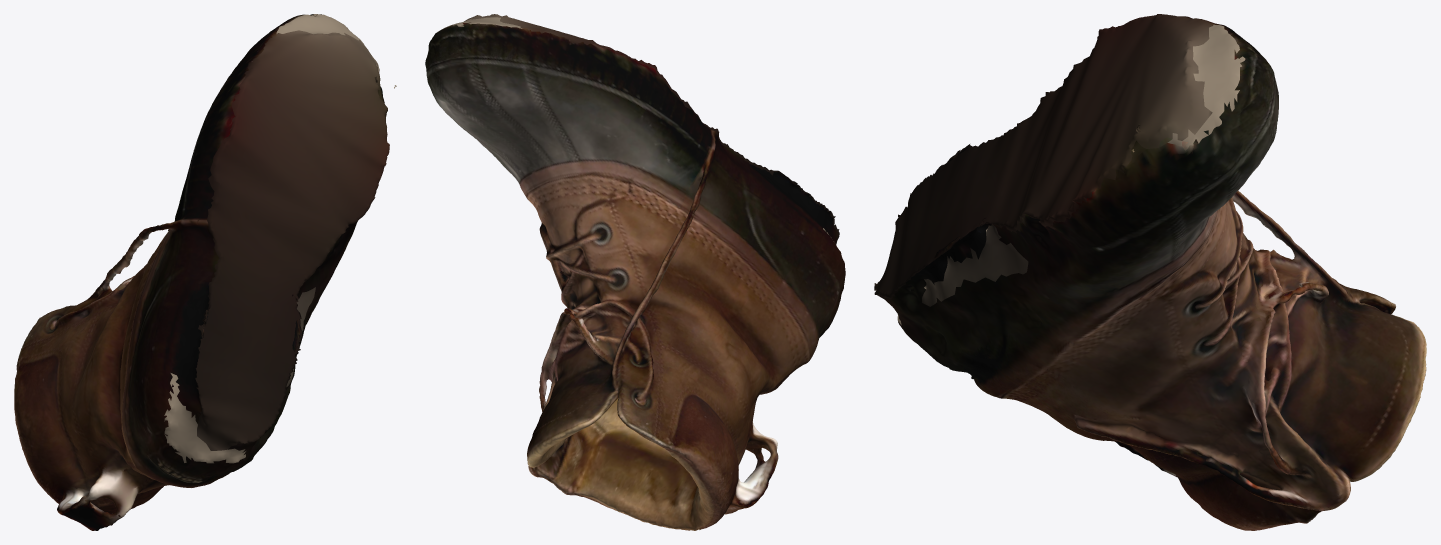
File: hunterboot.obj
3 renders of one model, left to right at view 1: azimuth 30°, elevation 25°; view 2: azimuth 150°, elevation 25°; view 3: azimuth 270°, elevation 25°, orthographic. The views are drawn at different scales.
Parts seen in each view (by area): view 1: mmGroup0; view 2: mmGroup0; view 3: mmGroup0.
Boxes of the visible parts, x1,y1,x2,y2 form: mmGroup0: (14, 14, 396, 530); mmGroup0: (425, 14, 845, 530); mmGroup0: (874, 14, 1426, 530).
Bounding box in the file's own units: 2.67 × 3.59 × 3.02.
Materials: 4 (4 with a texture image).
